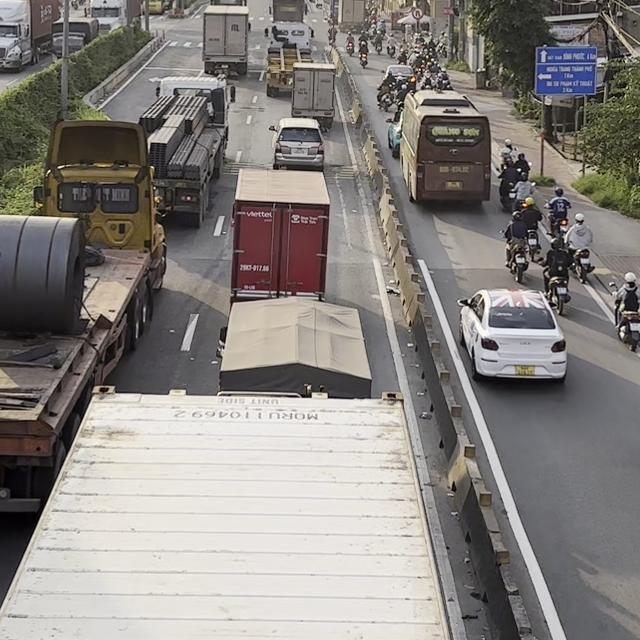bus: (398, 88, 491, 203)
car: (456, 287, 567, 382), (268, 117, 330, 171)
motorcycle: (608, 280, 639, 352), (500, 228, 531, 284), (539, 263, 571, 315), (544, 198, 572, 238), (566, 245, 594, 284), (526, 222, 542, 261), (377, 90, 393, 111), (359, 50, 368, 67), (345, 41, 354, 55)
truck: (0, 117, 167, 515), (215, 295, 372, 398), (138, 74, 235, 228), (228, 168, 330, 304), (264, 21, 315, 97), (201, 3, 252, 77), (290, 61, 336, 132)
